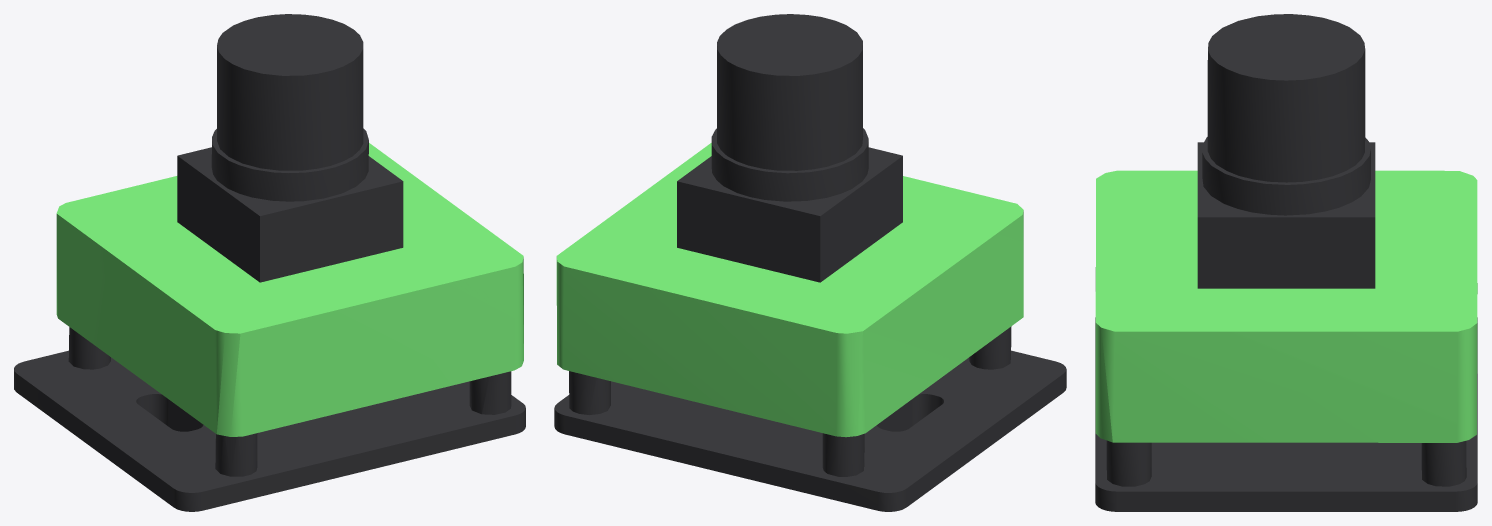
File: camera_cell.dae
The picture shows the model from 3 angles, left to right: view 1: azimuth 30°, elevation 25°; view 2: azimuth 150°, elevation 25°; view 3: azimuth 270°, elevation 25°; orthographic projection. The views are drawn at different scales.
Visible parts, largest first — view 1: cam_pcb, cam_lens, cam_base_plate; view 2: cam_pcb, cam_lens, cam_base_plate; view 3: cam_pcb, cam_lens, cam_base_plate.
Part boxes in pixels (box(x1,y1,x2,y2)): cam_pcb: box(56, 143, 523, 436); cam_lens: box(177, 14, 403, 282); cam_base_plate: box(14, 327, 525, 511); cam_pcb: box(556, 143, 1023, 437); cam_lens: box(677, 14, 902, 282); cam_base_plate: box(554, 326, 1066, 511); cam_pcb: box(1095, 170, 1477, 442); cam_lens: box(1197, 14, 1375, 288); cam_base_plate: box(1095, 317, 1477, 511).
Bounding box in the file's own units: 0.0385 × 0.034 × 0.0412.
